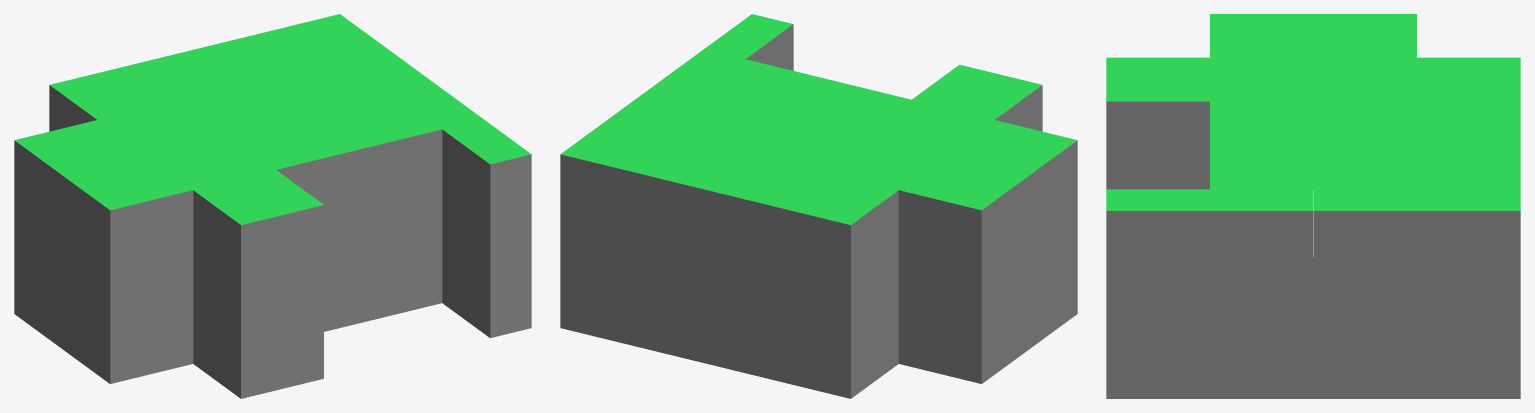
The model's file is Room1.FBX.
3 renders of one model, left to right at view 1: azimuth 30°, elevation 25°; view 2: azimuth 150°, elevation 25°; view 3: azimuth 270°, elevation 25°, orthographic. The views are drawn at different scales.
Visible parts, largest first — view 1: Box004, Box011, Box009, Box001, Box005, Box010, Box008, Box012, Object001, Box002, Box003, Object003 (+3 smaller); view 2: Box005, Box012, Box002, Box003, Box001, Box004, Box013, Box011, Object003, Object001, Box006, Box007 (+2 smaller); view 3: Box006, Box007, Box010, Box013, Box001, Box008, Box002, Box003, Box011, Box012, Object003, Object001 (+2 smaller).
Boxes of the visible parts, bbox=[...] form: Box004: bbox=[62, 155, 193, 383]; Box011: bbox=[193, 170, 323, 398]; Box009: bbox=[359, 129, 490, 337]; Box001: bbox=[180, 59, 441, 169]; Box005: bbox=[14, 120, 144, 348]; Box010: bbox=[442, 119, 531, 337]; Box008: bbox=[276, 149, 359, 331]; Box012: bbox=[49, 64, 179, 131]; Object001: bbox=[145, 135, 275, 189]; Box002: bbox=[216, 24, 345, 79]; Box003: bbox=[133, 44, 262, 99]; Object003: bbox=[98, 100, 227, 154]; Box005: bbox=[898, 155, 1029, 383]; Box012: bbox=[768, 170, 898, 398]; Box002: bbox=[601, 129, 732, 358]; Box003: bbox=[685, 149, 815, 378]; Box001: bbox=[650, 59, 911, 169]; Box004: bbox=[947, 120, 1077, 348]; Box013: bbox=[560, 119, 649, 337]; Box011: bbox=[912, 64, 1042, 131]; Object003: bbox=[816, 135, 946, 189]; Object001: bbox=[864, 100, 993, 154]; Box006: bbox=[656, 49, 745, 94]; Box007: bbox=[608, 84, 696, 129]; Box006: bbox=[1210, 189, 1313, 398]; Box007: bbox=[1313, 189, 1416, 398]; Box010: bbox=[1106, 189, 1209, 398]; Box013: bbox=[1417, 189, 1520, 398]; Box001: bbox=[1210, 101, 1416, 189]; Box008: bbox=[1106, 101, 1209, 189]; Box002: bbox=[1417, 145, 1520, 189]; Box003: bbox=[1417, 101, 1520, 145]; Box011: bbox=[1106, 57, 1209, 101]; Box012: bbox=[1417, 57, 1520, 101]; Object003: bbox=[1313, 57, 1416, 101]; Object001: bbox=[1210, 57, 1313, 101].
Size of the model in its own units: 177 by 157 by 78.74.
